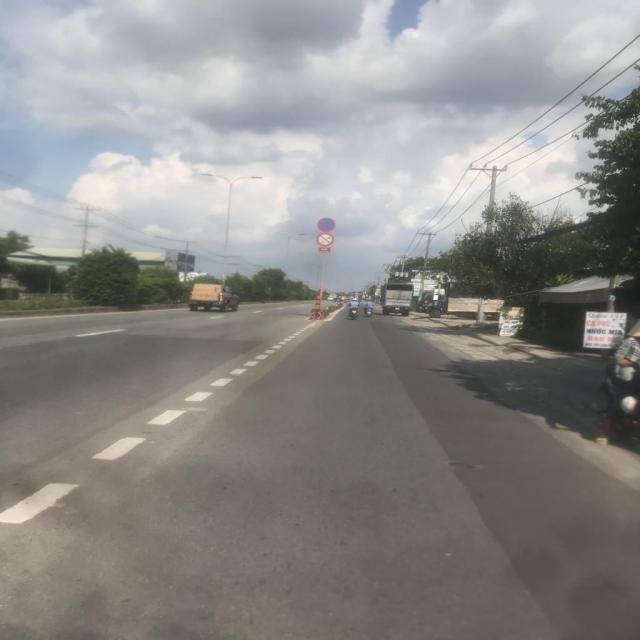cam_dung_xe_va_do_xe: (317, 218, 336, 232)
cam_o_to_tai_va_xe_khach: (377, 286, 381, 288)
cam_xe_2_banh_va_xe_3_banh_co_dong_co: (316, 232, 334, 247)
khac: (376, 288, 382, 292), (375, 292, 381, 296)
